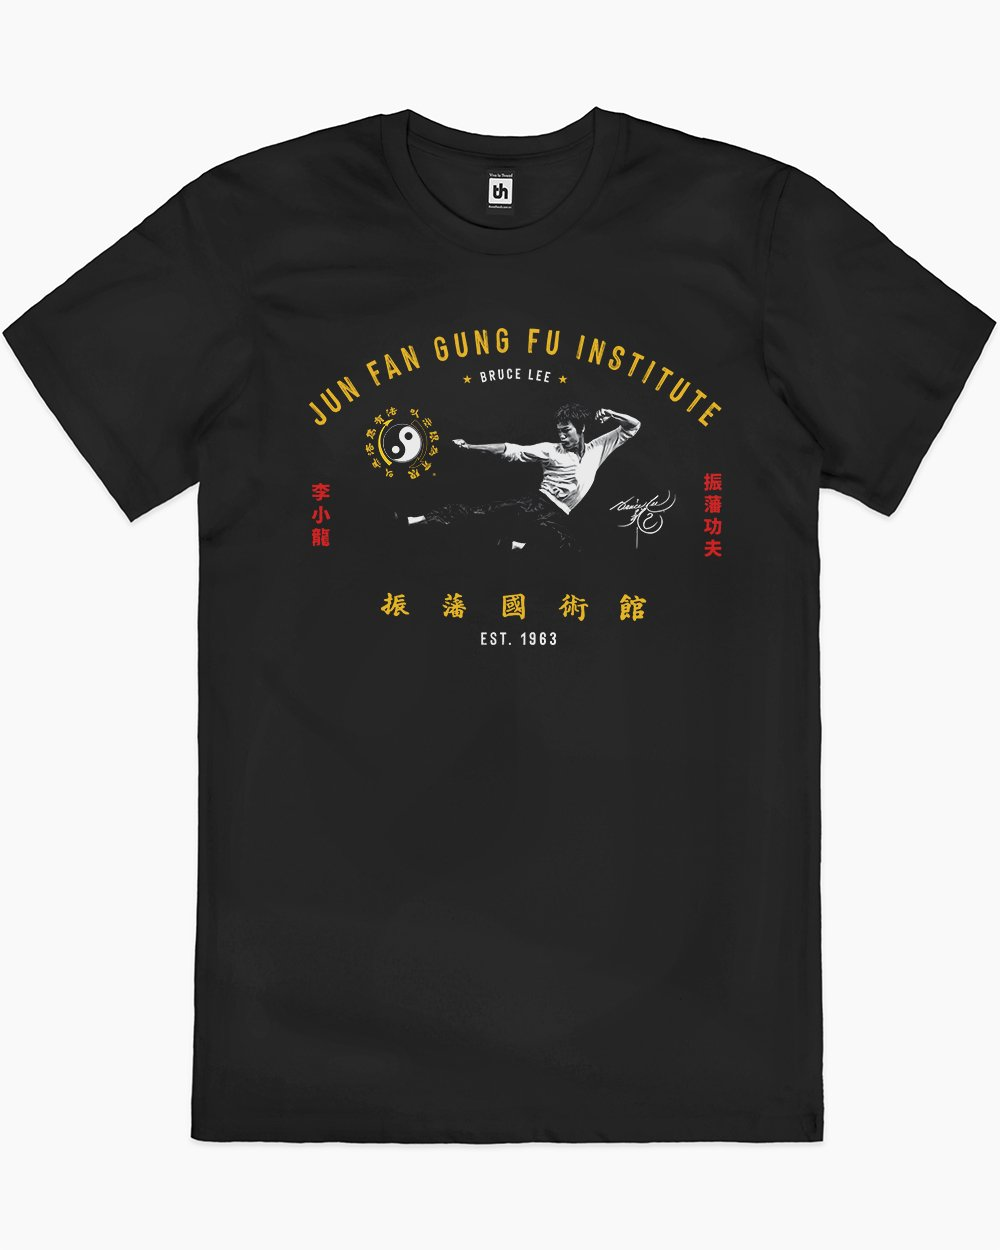design: (297, 315, 737, 659)
